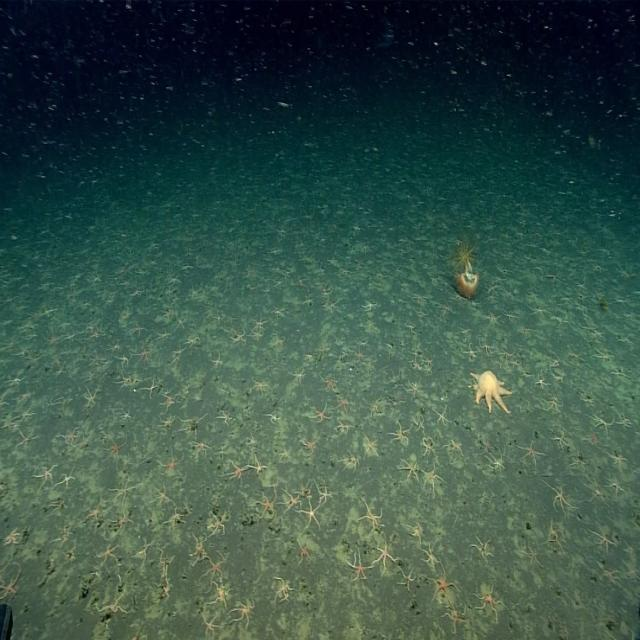brittle-stars: (125, 530, 156, 572), (434, 566, 458, 603), (546, 483, 572, 515), (296, 468, 319, 502), (384, 363, 409, 394), (109, 477, 136, 505), (478, 585, 501, 617), (202, 554, 225, 586), (44, 489, 70, 517), (374, 539, 396, 572), (442, 604, 467, 633), (1, 361, 25, 391), (0, 568, 21, 602), (348, 552, 371, 582), (359, 503, 383, 531), (592, 526, 616, 552), (100, 592, 126, 616), (584, 478, 607, 505), (256, 488, 276, 519), (49, 353, 71, 381), (562, 340, 590, 362), (234, 598, 255, 627), (96, 542, 120, 567), (53, 520, 74, 548), (160, 452, 183, 477), (519, 542, 541, 568), (473, 534, 494, 561), (520, 441, 542, 466), (273, 577, 293, 604), (548, 523, 566, 553), (303, 502, 322, 530), (202, 612, 221, 640), (609, 362, 634, 383), (423, 465, 442, 492), (64, 538, 80, 570), (208, 512, 227, 538), (13, 386, 35, 408), (190, 533, 207, 561), (87, 268, 106, 293), (180, 416, 202, 437), (105, 439, 126, 461), (592, 411, 612, 434), (36, 463, 56, 486), (382, 394, 409, 411), (167, 507, 186, 531), (391, 421, 411, 443), (114, 509, 134, 531), (116, 303, 136, 325), (401, 458, 420, 481), (342, 449, 361, 472), (212, 584, 231, 607), (312, 404, 332, 425), (18, 429, 38, 450), (606, 477, 625, 499), (159, 552, 175, 578), (282, 489, 300, 512), (153, 484, 171, 507), (59, 466, 77, 489), (620, 536, 638, 559), (362, 435, 378, 460), (55, 390, 75, 410), (301, 435, 320, 456), (585, 429, 603, 451), (318, 332, 332, 360), (229, 460, 248, 480), (599, 565, 619, 584), (570, 450, 588, 471), (200, 301, 217, 323), (326, 293, 343, 315), (88, 501, 104, 524), (62, 426, 80, 446), (401, 566, 417, 588), (337, 391, 353, 413), (81, 368, 100, 386), (298, 540, 312, 564), (316, 484, 332, 505), (299, 347, 315, 368), (302, 290, 316, 314), (406, 380, 424, 398), (18, 406, 36, 424), (295, 271, 312, 290), (489, 450, 505, 470), (435, 406, 451, 426), (4, 526, 20, 546), (75, 434, 91, 454), (85, 387, 100, 408), (424, 547, 439, 568), (194, 441, 211, 459), (251, 378, 269, 395), (217, 410, 234, 428), (249, 456, 266, 474), (89, 350, 107, 367), (552, 429, 568, 448), (617, 412, 633, 431), (592, 348, 611, 364), (624, 563, 640, 582), (136, 347, 153, 364), (611, 452, 628, 469), (321, 376, 337, 394), (544, 396, 562, 412), (337, 418, 353, 436), (496, 263, 516, 277), (162, 391, 178, 408), (614, 329, 631, 345), (409, 523, 424, 541), (552, 312, 570, 327), (1, 415, 16, 433), (484, 280, 502, 295), (398, 274, 412, 293), (368, 397, 380, 419), (502, 308, 518, 324), (130, 320, 146, 336), (499, 346, 515, 362), (438, 301, 454, 317), (487, 310, 502, 327), (481, 338, 495, 356), (144, 379, 158, 397), (528, 304, 546, 318), (161, 580, 173, 601), (290, 370, 305, 386), (160, 416, 177, 430), (422, 439, 436, 456), (119, 371, 133, 388), (175, 312, 188, 330), (414, 414, 427, 432), (448, 441, 463, 456), (252, 314, 267, 329), (266, 411, 281, 426), (272, 334, 286, 350), (116, 352, 130, 368), (545, 270, 561, 284), (428, 273, 442, 289), (211, 350, 222, 370), (127, 630, 149, 640), (501, 283, 512, 303), (233, 331, 247, 346), (534, 375, 548, 390), (48, 333, 62, 348), (262, 283, 272, 304), (464, 344, 477, 360), (363, 320, 376, 336), (354, 346, 366, 363), (89, 326, 103, 340), (362, 300, 377, 313), (184, 337, 199, 350), (158, 327, 172, 340), (413, 291, 427, 304), (405, 320, 418, 334), (132, 286, 146, 299), (273, 307, 287, 320), (551, 372, 565, 385), (516, 326, 530, 339), (482, 440, 494, 455), (279, 446, 291, 461), (210, 280, 222, 295), (214, 309, 224, 327), (251, 331, 264, 344), (416, 306, 429, 319), (183, 263, 196, 276), (319, 284, 331, 298), (550, 354, 562, 368), (188, 284, 200, 298), (116, 264, 128, 278), (362, 359, 374, 373), (246, 435, 257, 450), (422, 364, 434, 377), (168, 273, 180, 286), (340, 266, 352, 279), (112, 341, 123, 355), (216, 446, 227, 460), (120, 410, 132, 422), (326, 254, 338, 266), (64, 332, 76, 344), (244, 267, 256, 279), (136, 269, 148, 281), (173, 346, 184, 359), (161, 306, 172, 319), (411, 347, 422, 360), (412, 357, 422, 371), (530, 289, 541, 301), (354, 259, 365, 271), (282, 268, 293, 280), (423, 354, 433, 367), (228, 313, 238, 325), (274, 278, 284, 290), (486, 292, 498, 302), (272, 266, 282, 277), (513, 358, 522, 368)
